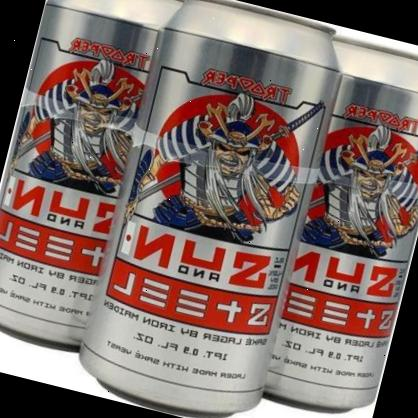can: (68, 0, 350, 418), (236, 25, 418, 418), (0, 0, 170, 389)
